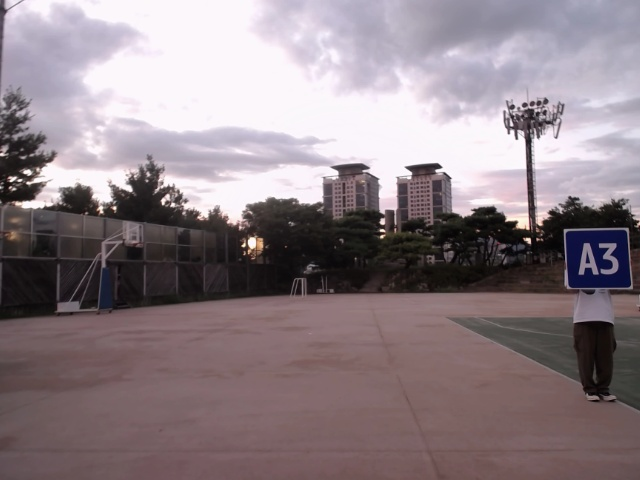delivery_a3: (564, 229, 632, 290)
